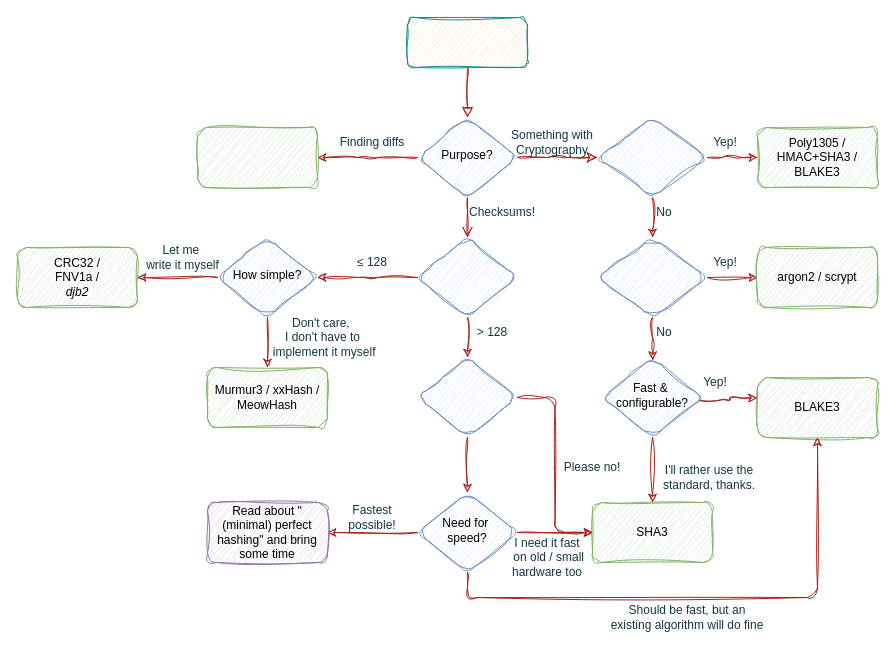
This 895x650 diagram has some shape labels left out. Each missing label, with the centre of its shape:
"For Password Hashing?" goes at pixel 652 277.
"For Signatures?" goes at pixel 652 157.
"How bad are collisions?" goes at pixel 467 397.
"I need a hash function for a new project" goes at pixel 467 42.
"Output bits?" goes at pixel 467 277.
"Rabin / adler32 (rsync) (rolling hashes)" goes at pixel 257 157.
